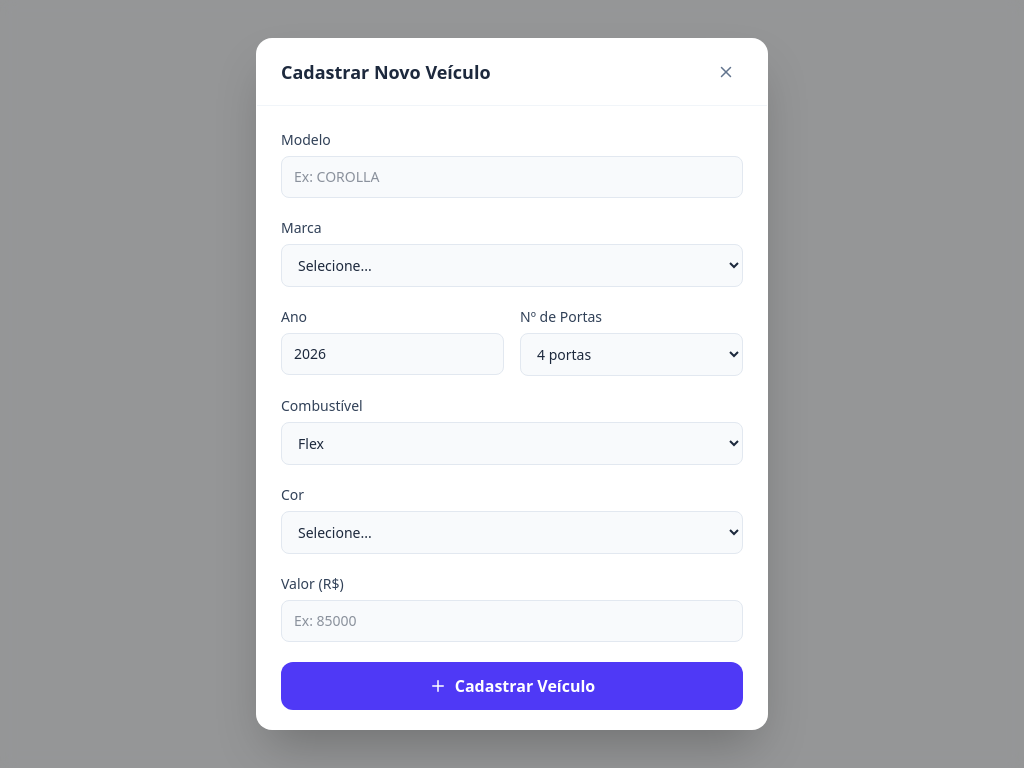
Test case: VehicleForm — segurança › rejeita modelo com caracteres especiais proibidos
In the field labelled "Modelo": (512,177) [281,156,743,198], type "<script>alert(1)</script>"
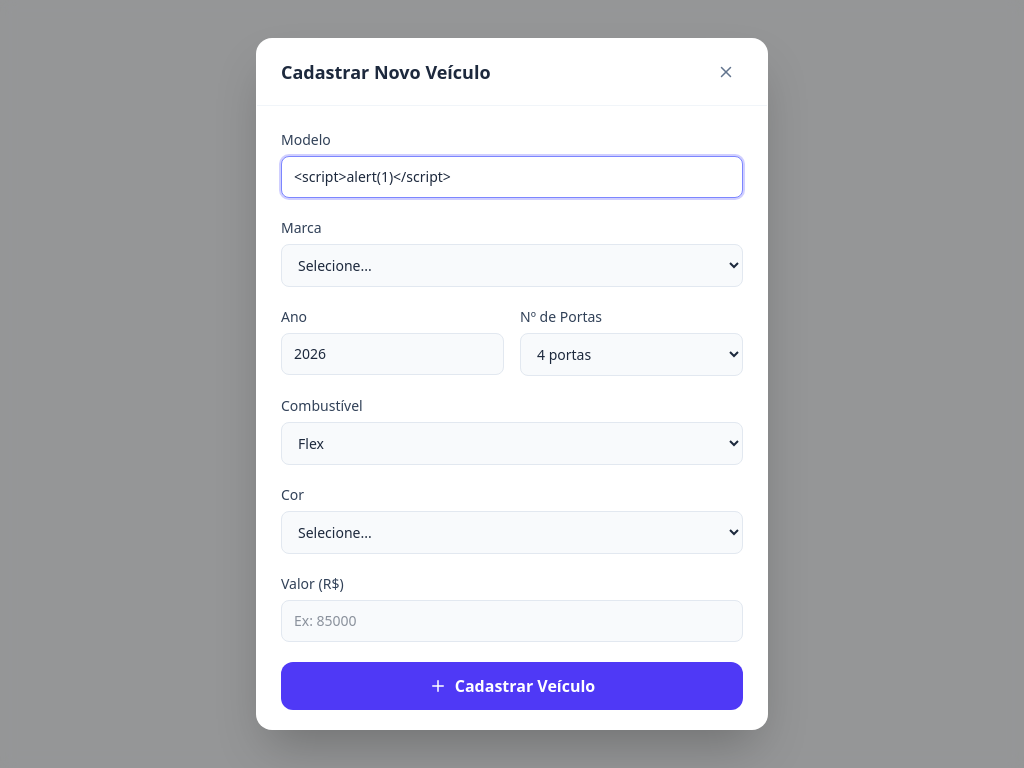
Click the button "Cadastrar Veículo": (512,686) [281,662,743,710]
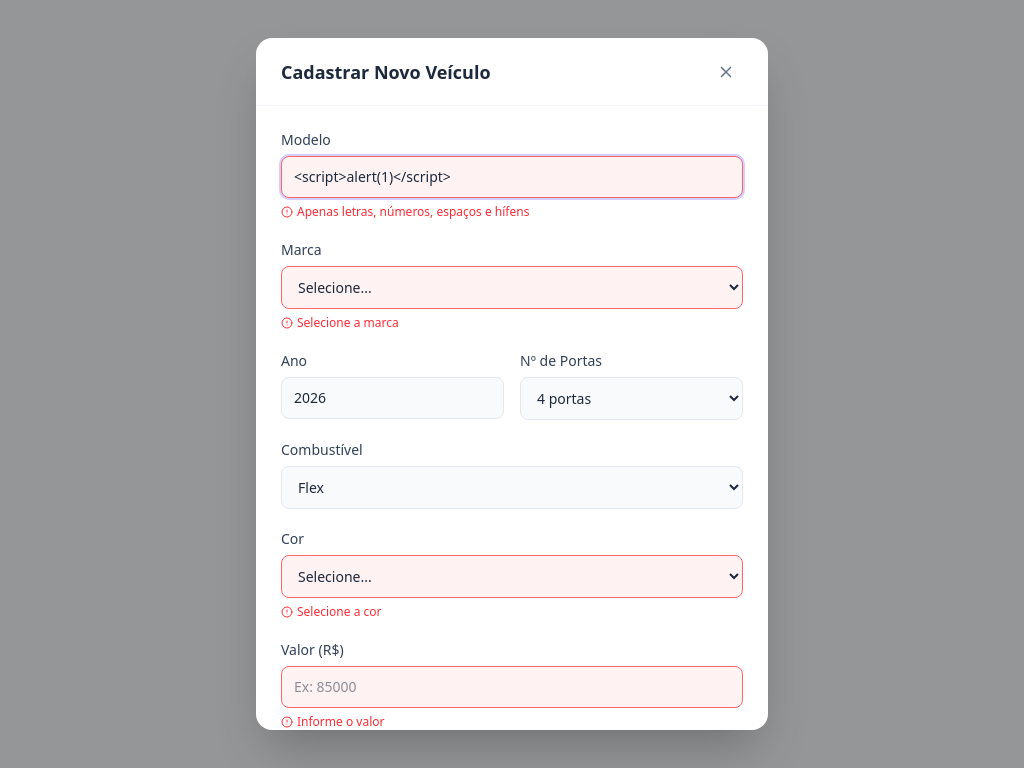
Check: the text "Apenas letras, números, espaços e hífens" is shown, box [281,203,529,220]
